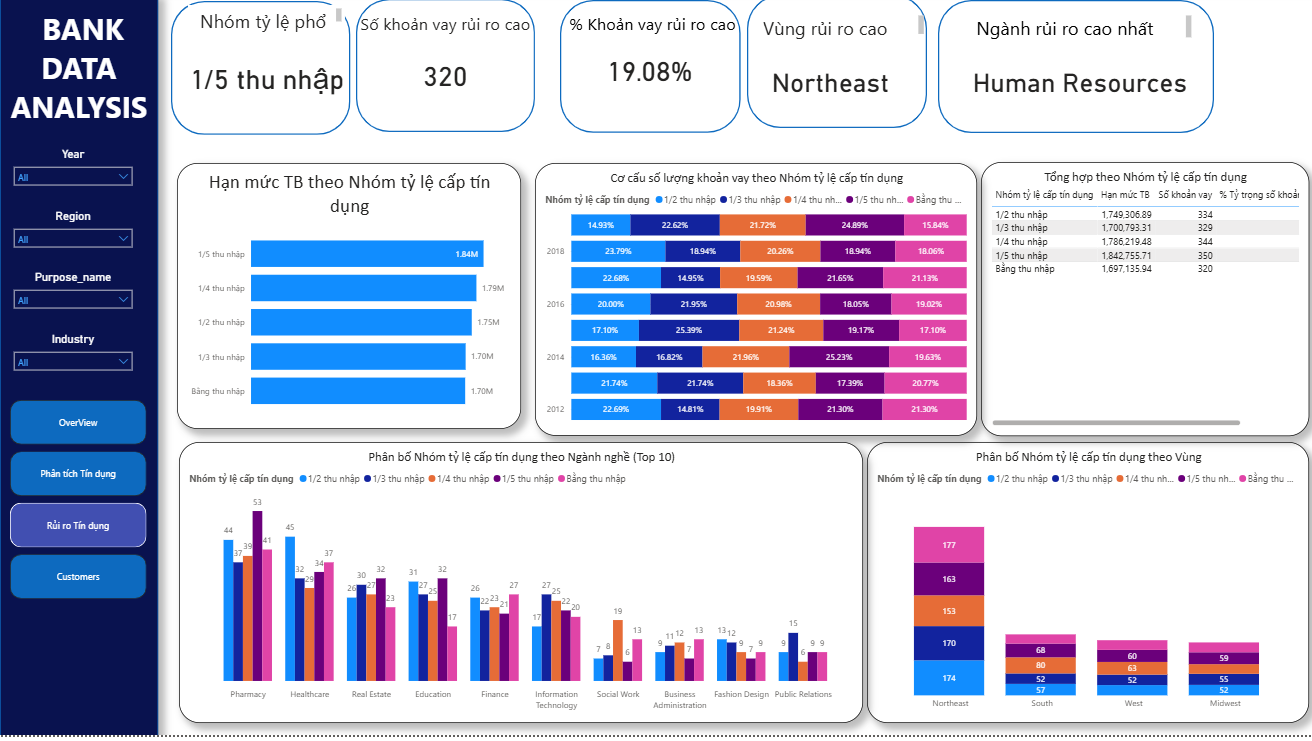

Layout of this report page (visuals, bound fields, positions):
{"tool":"powerbi","page":{"name":"Rủi ro Tín dụng","canvas":[1920,1080],"ordinal":2},"visuals":[{"type":"shape","box":[0,0,230.8,1080.8],"z":0},{"type":"textbox","box":[0,14.4,230.5,267.6],"z":1000},{"type":"pageNavigator","box":[14.6,590.9,199.9,290.3],"z":2000},{"type":"clusteredBarChart","title":"Hạn mức TB theo Nhóm tỷ lệ cấp tín dụng","fields":{"Category":["fact_loan.Nhóm tỷ lệ cấp tín dụng"],"Y":["Measure_Page1.Hạn mức TB"]},"box":[258.2,245.1,501.9,388.1],"z":3000},{"type":"shape","box":[249.6,8.7,261.8,195.5],"z":4000},{"type":"textbox","box":[274,14,228.7,47.1],"z":5000},{"type":"shape","box":[519.4,5.8,261.2,194],"z":6000},{"type":"cardVisual","fields":{"Data":["Measure_rủi ro.Nhóm tỷ lệ phổ biến nhất"]},"box":[249.5,71.5,280.1,93.4],"z":7000},{"type":"textbox","box":[520.9,20.4,259.7,55.4],"z":8000},{"type":"shape","box":[816.9,7,263.6,193.7],"z":9000},{"type":"textbox","box":[825.8,20.4,264.1,80.2],"z":10000},{"type":"shape","box":[1089.8,0,262.6,194],"z":11000},{"type":"textbox","box":[1108.8,24.8,243.6,54],"z":12000},{"type":"shape","box":[1368.5,7.3,402.7,194],"z":13000},{"type":"cardVisual","fields":{"Data":["Measure_rủi ro.Vùng rủi ro cao nhất"]},"box":[1108.8,80.2,217.4,80.2],"z":14000},{"type":"textbox","box":[1380.7,24.4,363.1,50.6],"z":15000},{"type":"columnChart","title":"Phân bố Nhóm tỷ lệ cấp tín dụng theo Vùng","fields":{"Y":["Measure_Page1.Số khoản vay"],"Category":["dim_location.region"],"Series":["fact_loan.Nhóm tỷ lệ cấp tín dụng"]},"box":[1264.9,652.2,644.9,410],"z":17000},{"type":"cardVisual","fields":{"Data":["Measure_rủi ro.Số khoản vay rủi ro cao"]},"box":[528.1,67.1,243.6,93.4],"z":19000},{"type":"cardVisual","fields":{"Data":["Measure_rủi ro.% Khoản vay rủi ro cao"]},"box":[825.6,64.6,244.4,83.8],"z":20000},{"type":"cardVisual","fields":{"Data":["Measure_rủi ro.Ngành rủi ro cao nhất"]},"box":[1402.1,80.2,369.1,78.8],"z":21000},{"type":"tableEx","title":"Tổng hợp theo Nhóm tỷ lệ cấp tín dụng","fields":{"Values":["fact_loan.Nhóm tỷ lệ cấp tín dụng","Measure_Page1.Hạn mức TB","Measure_Page1.Số khoản vay","Measure_rủi ro.% Tỷ trọng số khoản vay theo Nhóm"]},"box":[1431.2,243.6,478.5,399.8],"z":22000},{"type":"slicer","title":"Year","fields":{"Values":["dim_date.year"]},"box":[10.2,221.8,192.6,74.4],"z":23000},{"type":"slicer","title":"Region","fields":{"Values":["dim_location.region"]},"box":[10.2,312.2,192.6,74.4],"z":24000},{"type":"slicer","title":"Purpose_name","fields":{"Values":["dim_purpose.purpose_name"]},"box":[10.2,401.2,192.6,74.4],"z":25000},{"type":"hundredPercentStackedBarChart","title":"Cơ cấu số lượng khoản vay theo Nhóm tỷ lệ cấp tín dụng","fields":{"Category":["dim_date.year"],"Y":["Measure_Page1.Số khoản vay"],"Series":["fact_loan.Nhóm tỷ lệ cấp tín dụng"]},"box":[780.5,245.1,644.9,398.3],"z":30000},{"type":"clusteredColumnChart","title":"Phân bố Nhóm tỷ lệ cấp tín dụng theo Ngành nghề (Top 10)","fields":{"Category":["dim_job.industry"],"Series":["fact_loan.Nhóm tỷ lệ cấp tín dụng"],"Y":["Measure_Page1.Số khoản vay"]},"box":[261.2,652.2,997.9,410],"z":31000},{"type":"slicer","title":"Industry","fields":{"Values":["dim_job.industry"]},"box":[10.2,491.7,192.6,74.4],"z":32000}]}

Visuals, with their boxes on the page's 1920x1080 design canvas (x1, y1, x2, y2). These are canvas units, not pixel positions in the 1312x741 screenshot, which may show the page scaled, cropped or inside an application window:
shape: <region>0, 0, 231, 1081</region>
textbox: <region>0, 14, 230, 282</region>
pageNavigator: <region>15, 591, 214, 881</region>
"Hạn mức TB theo Nhóm tỷ lệ cấp tín dụng" clusteredBarChart: <region>258, 245, 760, 633</region>
shape: <region>250, 9, 511, 204</region>
textbox: <region>274, 14, 503, 61</region>
shape: <region>519, 6, 781, 200</region>
cardVisual - Measure_rủi ro.Nhóm tỷ lệ phổ biến nhất: <region>250, 72, 530, 165</region>
textbox: <region>521, 20, 781, 76</region>
shape: <region>817, 7, 1080, 201</region>
textbox: <region>826, 20, 1090, 101</region>
shape: <region>1090, 0, 1352, 194</region>
textbox: <region>1109, 25, 1352, 79</region>
shape: <region>1368, 7, 1771, 201</region>
cardVisual - Measure_rủi ro.Vùng rủi ro cao nhất: <region>1109, 80, 1326, 160</region>
textbox: <region>1381, 24, 1744, 75</region>
"Phân bố Nhóm tỷ lệ cấp tín dụng theo Vùng" columnChart: <region>1265, 652, 1910, 1062</region>
cardVisual - Measure_rủi ro.Số khoản vay rủi ro cao: <region>528, 67, 772, 160</region>
cardVisual - Measure_rủi ro.% Khoản vay rủi ro cao: <region>826, 65, 1070, 148</region>
cardVisual - Measure_rủi ro.Ngành rủi ro cao nhất: <region>1402, 80, 1771, 159</region>
"Tổng hợp theo Nhóm tỷ lệ cấp tín dụng" tableEx: <region>1431, 244, 1910, 643</region>
"Year" slicer: <region>10, 222, 203, 296</region>
"Region" slicer: <region>10, 312, 203, 387</region>
"Purpose_name" slicer: <region>10, 401, 203, 476</region>
"Cơ cấu số lượng khoản vay theo Nhóm tỷ lệ cấp tín dụng" hundredPercentStackedBarChart: <region>780, 245, 1425, 643</region>
"Phân bố Nhóm tỷ lệ cấp tín dụng theo Ngành nghề (Top 10)" clusteredColumnChart: <region>261, 652, 1259, 1062</region>
"Industry" slicer: <region>10, 492, 203, 566</region>
